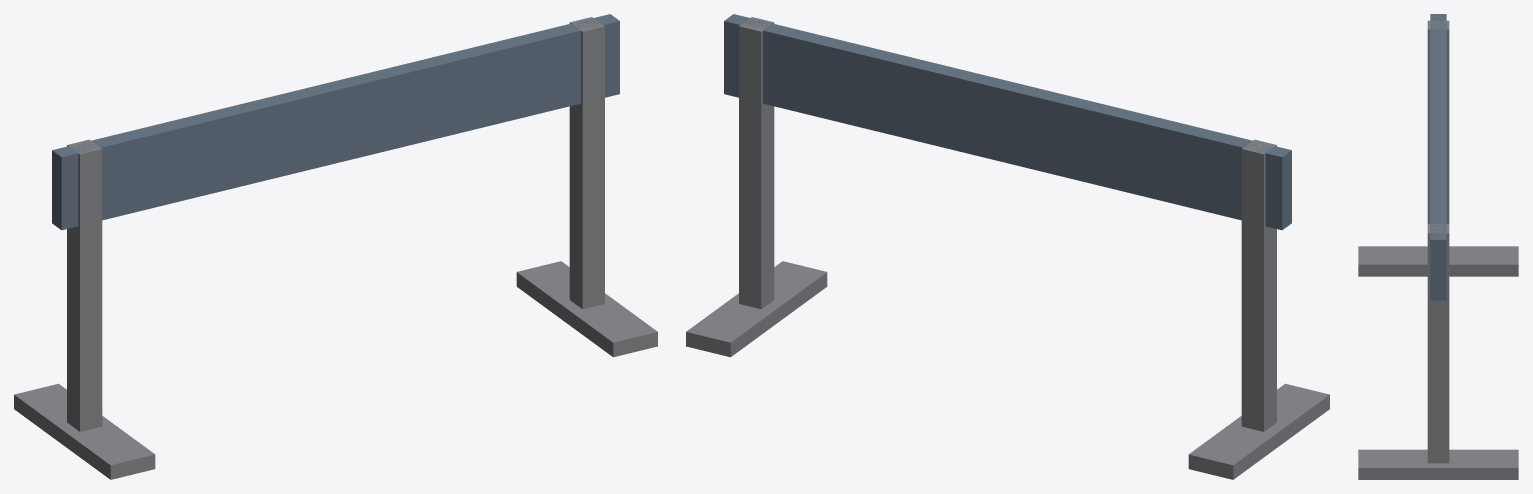
Rendered from police_barriere.glb.
The picture shows the model from 3 angles, left to right: view 1: azimuth 30°, elevation 25°; view 2: azimuth 150°, elevation 25°; view 3: azimuth 270°, elevation 25°; orthographic projection. The views are drawn at different scales.
Parts seen in each view (by area): view 1: police_barriere; view 2: police_barriere; view 3: police_barriere.
Part boxes in pixels (box(x1,y1,x2,y2)): police_barriere: box(14, 14, 657, 479); police_barriere: box(686, 14, 1329, 479); police_barriere: box(1358, 14, 1518, 479).
Bounding box in the file's own units: 2 × 1 × 0.6.
